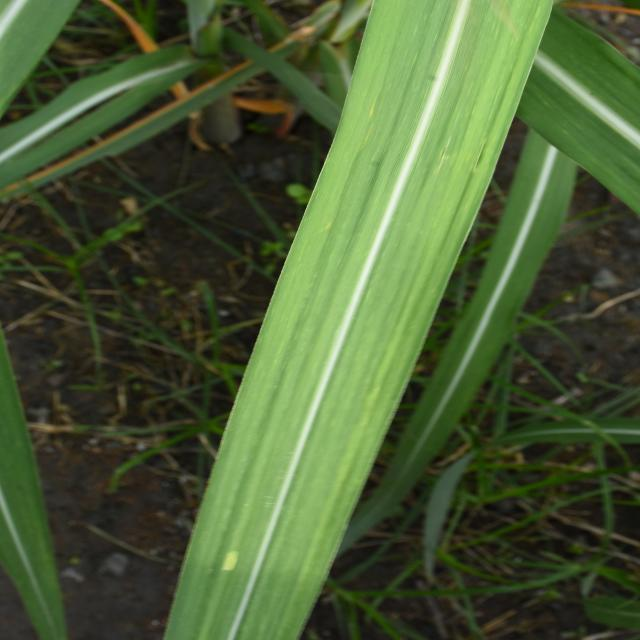Sugarcane: (159, 0, 562, 640)
